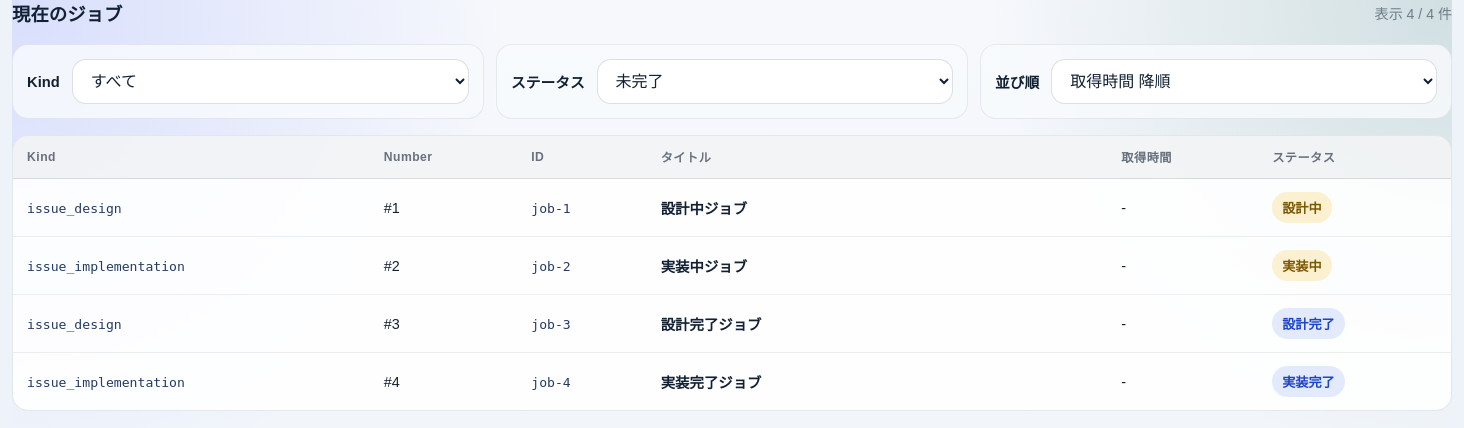
Scenario: JobListPanel › groups running and waiting states into single status filters
Expected: the dropdown named "Kindフィルター" shows "すべて", 72,59 -> 469,104
Select "実行中" in the dropdown named "ステータスフィルター". click: x=775, y=82
box: 597,59 -> 953,104
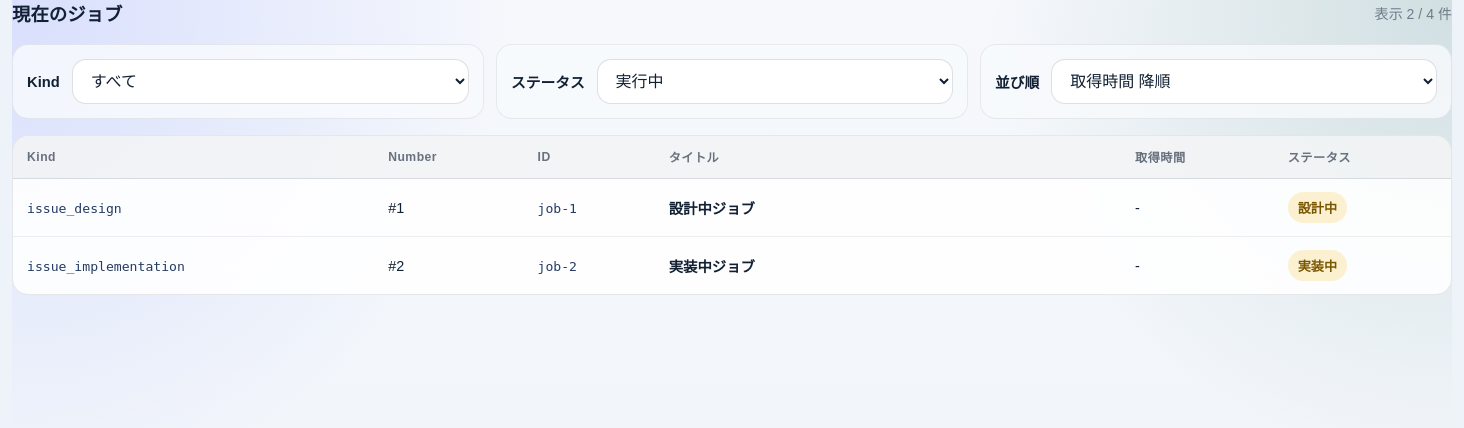
Expected: the text "設計中ジョブ" is shown, 655,178 -> 1121,236
Expected: the text "設計完了ジョブ" is gone
Expected: the text "実装完了ジョブ" is gone
Select "承認待ち" in the dropdown named "ステータスフィルター". click: x=775, y=82
box: 597,59 -> 953,104
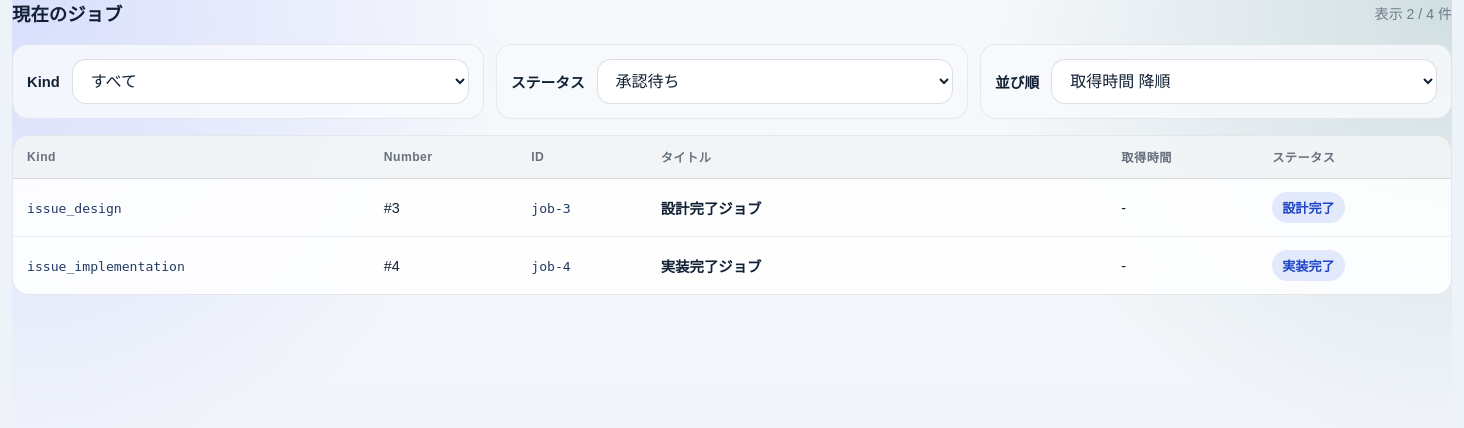
Expected: the text "設計完了ジョブ" is shown, 647,178 -> 1107,236
Expected: the text "実装完了ジョブ" is shown, 647,236 -> 1107,294
Expected: the text "設計中ジョブ" is gone
